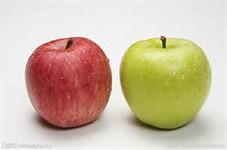apple: (27, 34, 115, 133)
